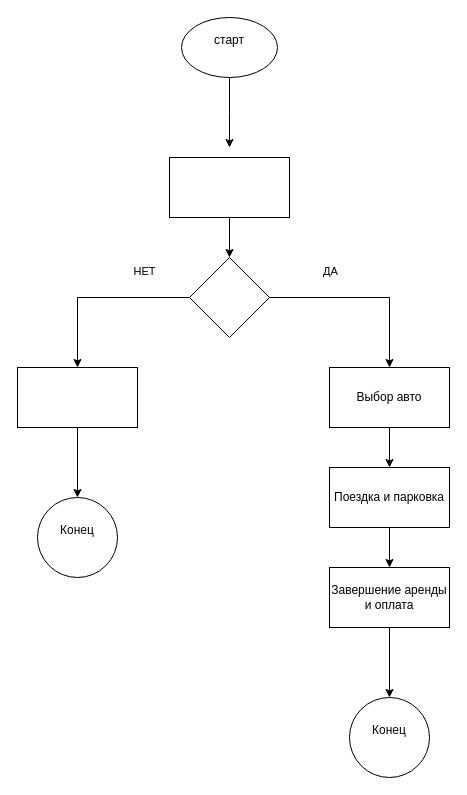
Some shapes in this 467 by 795 pixel diagram are drawn without their labels. The shapes that lost their labels are listed below. From the top down, each one's box as (x1, y1, x2, y2) in pixels, then its label:
(168, 156, 290, 218): Проверка профиля и прав
(188, 256, 270, 338): Профиль одобрен
(16, 366, 138, 428): Отказ в аренде
